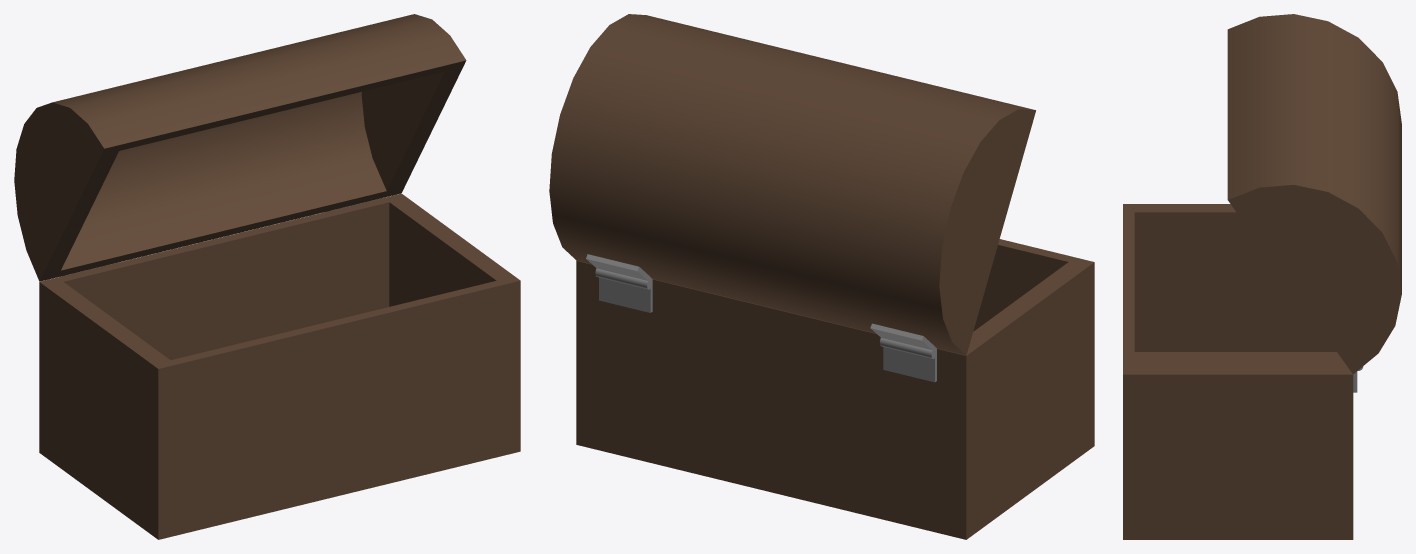
Rendered from Mesh_Chest_01.fbx.
3 renders of one model, left to right at view 1: azimuth 30°, elevation 25°; view 2: azimuth 150°, elevation 25°; view 3: azimuth 270°, elevation 25°, orthographic. The views are drawn at different scales.
Visible parts, largest first — view 1: Chest_base, Chest__lid; view 2: Chest__lid, Chest_base, Hinge_base_btm, Hinge_base_btm2, Hinge_base_top, Hinge_base_top2; view 3: Chest_base, Chest__lid.
Part boxes in pixels (x1,y1,x2,y2): Chest_base: [39, 193, 520, 539]; Chest__lid: [14, 14, 466, 281]; Chest__lid: [549, 14, 1035, 355]; Chest_base: [576, 239, 1094, 539]; Hinge_base_btm: [599, 277, 652, 312]; Hinge_base_btm2: [883, 347, 936, 382]; Hinge_base_top: [586, 254, 650, 281]; Hinge_base_top2: [870, 323, 935, 351]; Chest_base: [1123, 204, 1353, 539]; Chest__lid: [1227, 14, 1401, 374].
Bounding box in the file's own units: 46.62 × 45.18 × 32.15.
